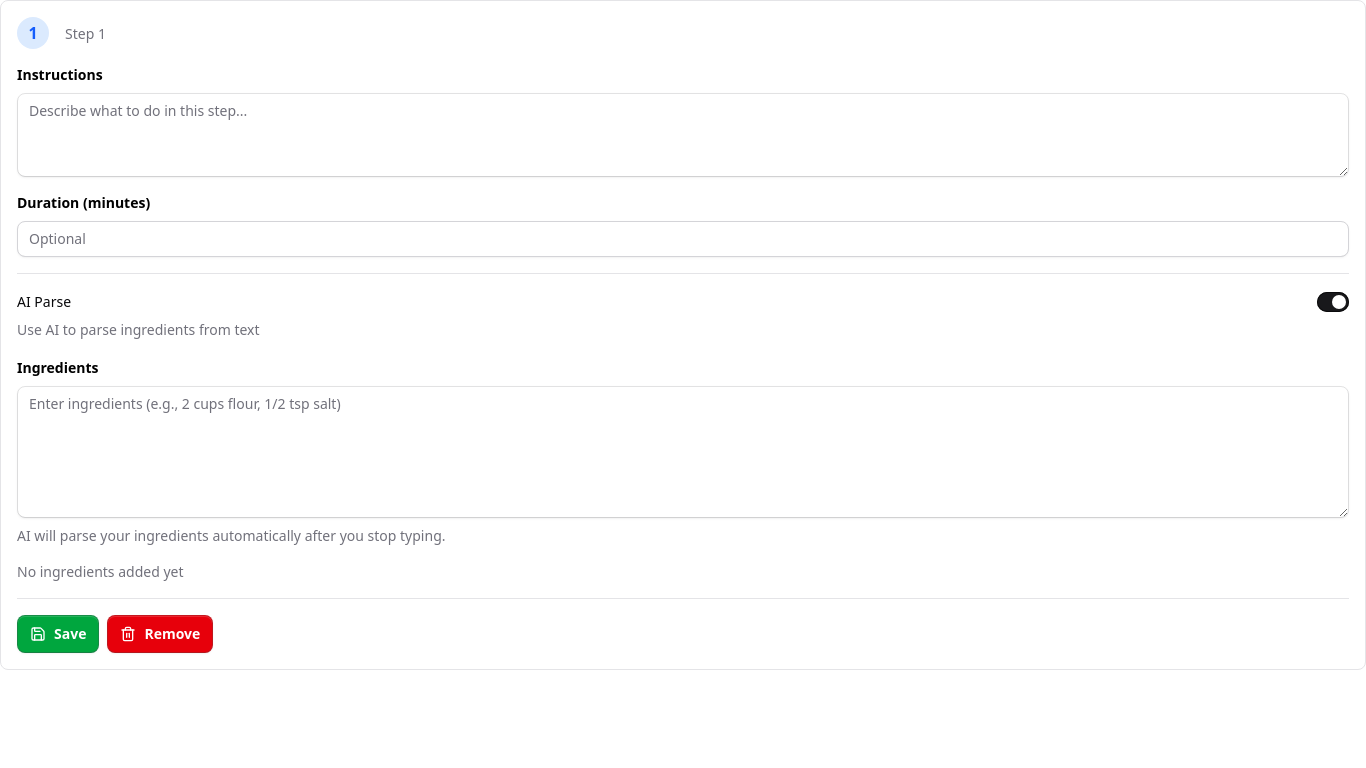
StepEditorCard › manual mode › shows ManualIngredientInput when toggled to manual mode
The width and height of the screenshot is (1366, 768).
// Toggle to manual mode
Click the switch at (1333, 302), box [1317,292,1349,312]
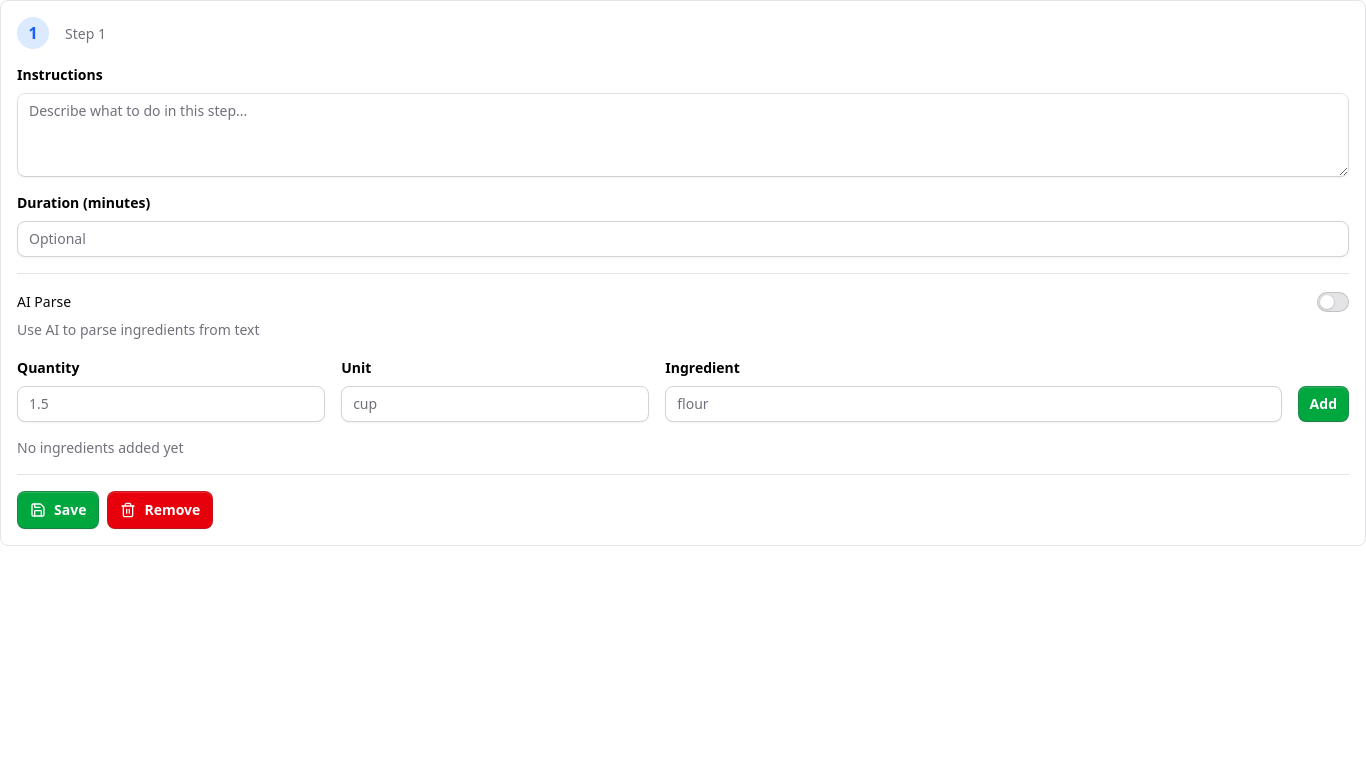
Expected: the number field labelled "Quantity" is shown, [17,386,325,422]
Expected: the field labelled "Unit" is shown, [341,386,649,422]
Expected: the field labelled "Ingredient" is shown, [665,386,1282,422]
